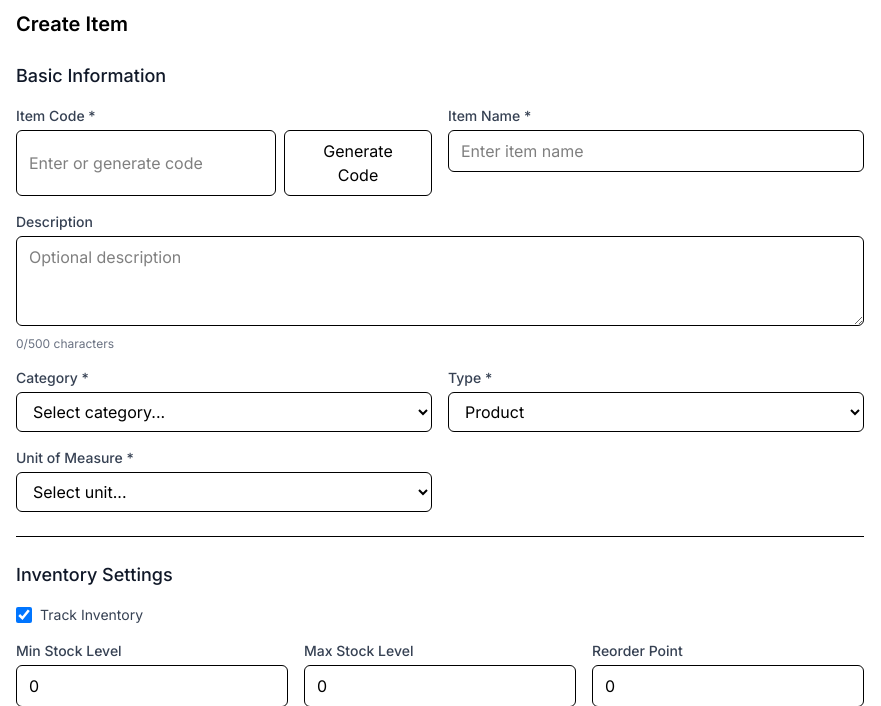
Test: ItemForm › Create Mode › should show/hide inventory fields based on type
Expected: the checkbox labelled "Track Inventory" is shown, x1=16 y1=607 x2=32 y2=623
Expected: the number field labelled "Min Stock Level" is shown, x1=16 y1=665 x2=288 y2=705
# Change to SERVICE
Select "Service" in the dropdown labelled "Type *": (656, 412) x1=448 y1=392 x2=864 y2=432
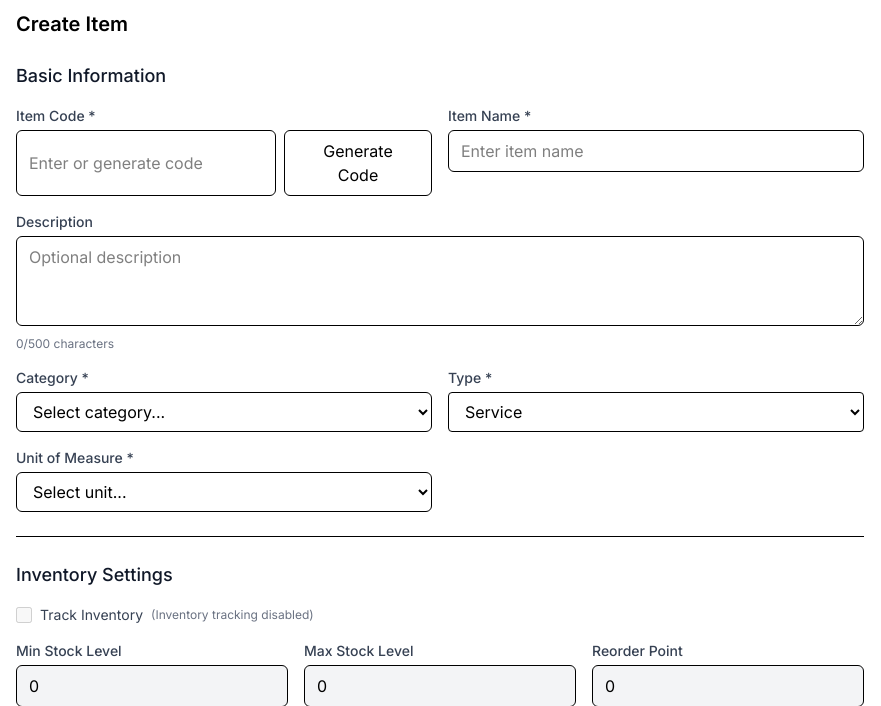
Now the checkbox labelled "Track Inventory" is not checked, box x1=16 y1=607 x2=32 y2=623
